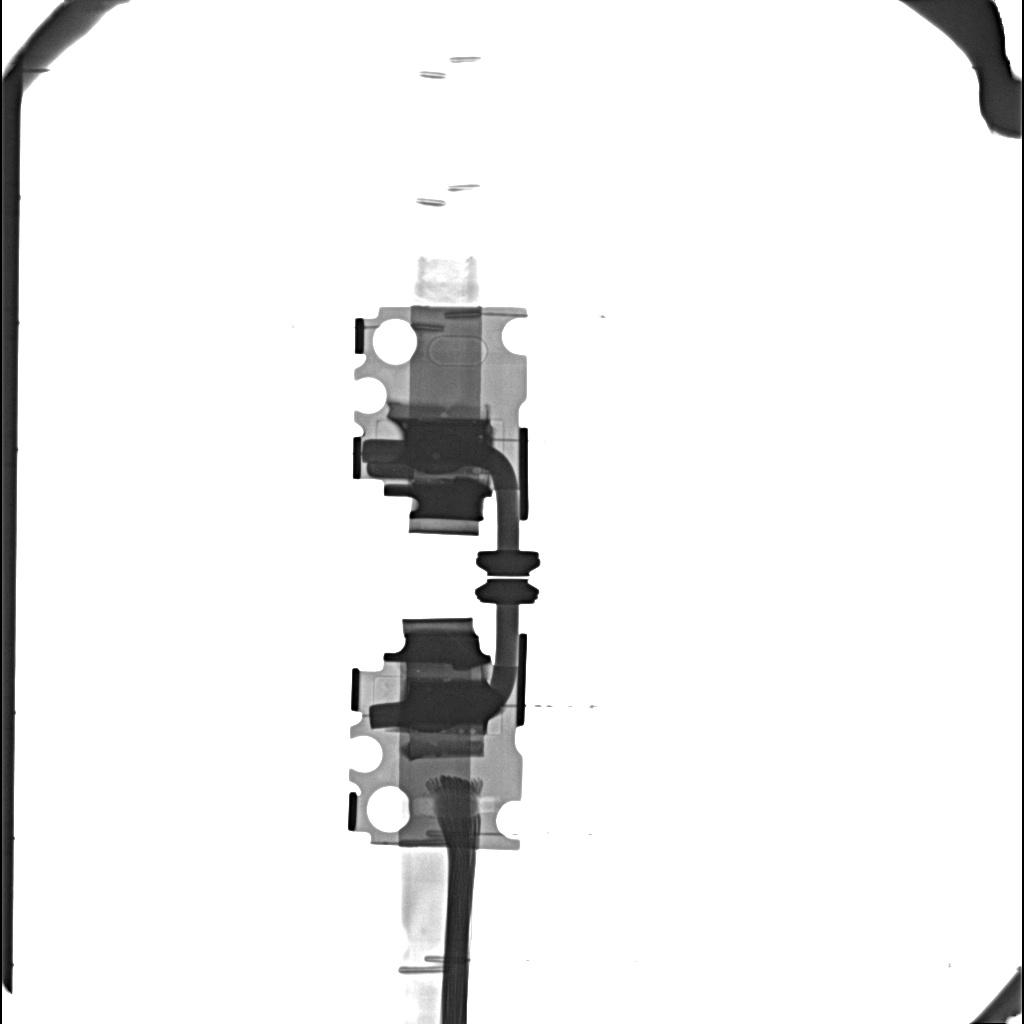defect: (404, 680, 501, 727), (408, 419, 491, 468), (408, 730, 485, 761)
